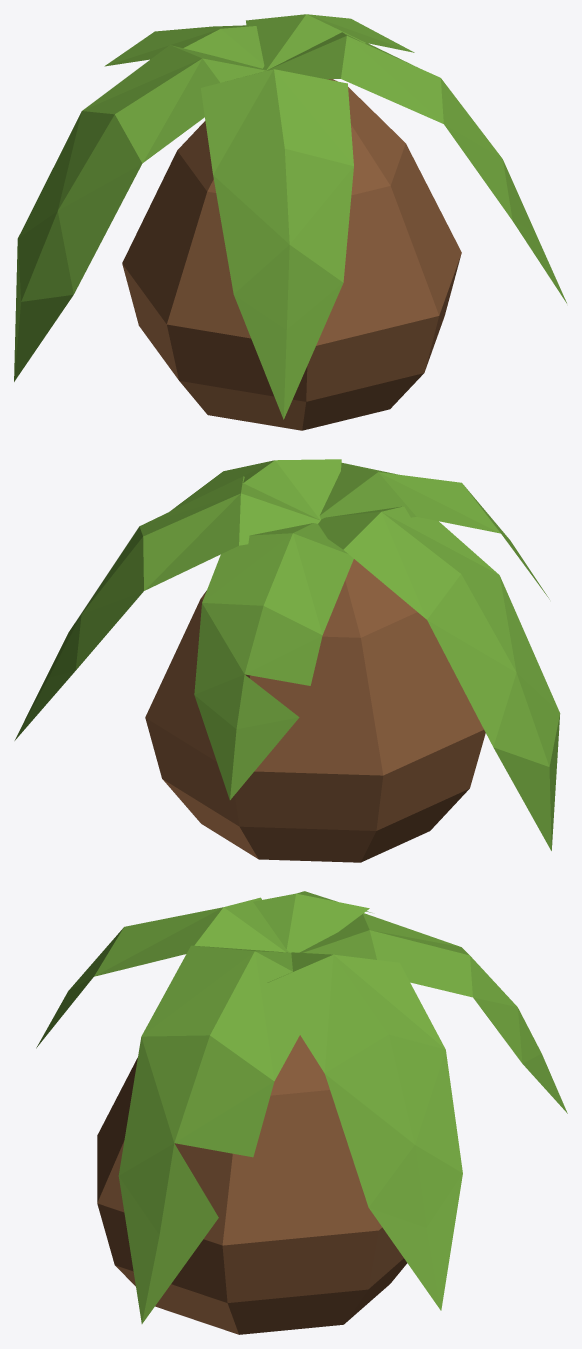
File: palm-small.glb
The picture shows the model from 3 angles, top to bottom: view 1: azimuth 30°, elevation 25°; view 2: azimuth 150°, elevation 25°; view 3: azimuth 270°, elevation 25°; orthographic projection. The views are drawn at different scales.
Visible parts, largest first — view 1: palm-small; view 2: palm-small; view 3: palm-small.
Part boxes in pixels (bbox=[...]): palm-small: bbox=[14, 14, 566, 430]; palm-small: bbox=[14, 459, 560, 862]; palm-small: bbox=[36, 891, 567, 1334].
Bounding box in the file's own units: 3.05 × 2.07 × 2.91.
Materials: 1 (1 with a texture image).
